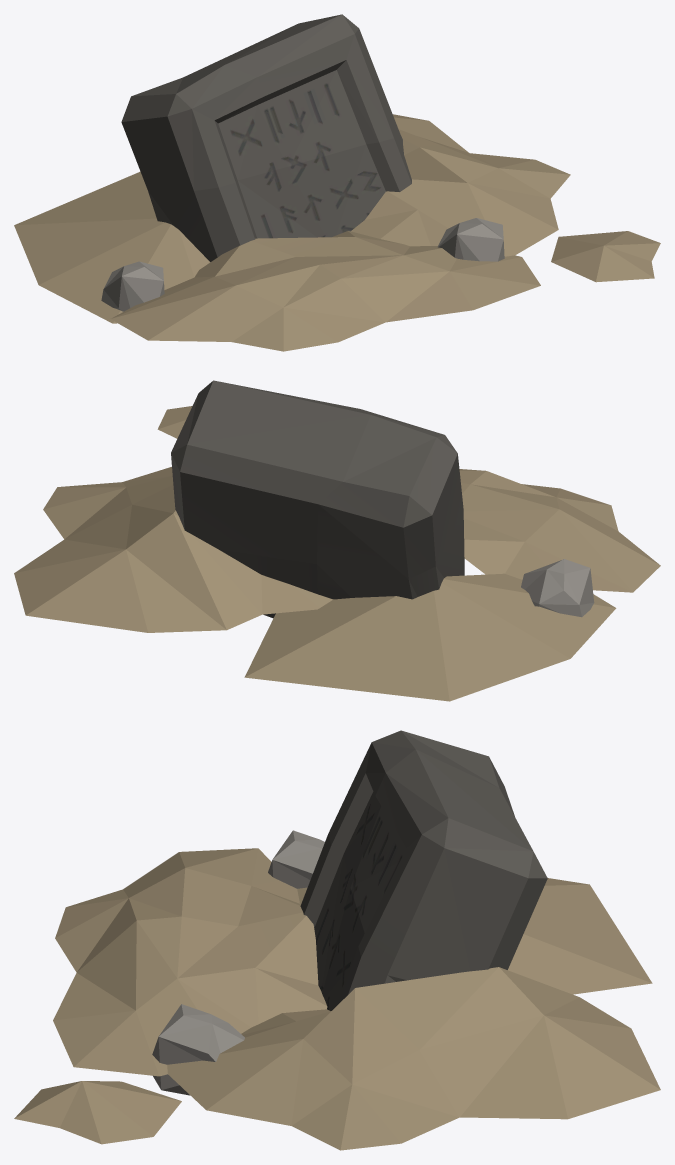
File: runestone.fbx
3 renders of one model, top to bottom at view 1: azimuth 30°, elevation 25°; view 2: azimuth 150°, elevation 25°; view 3: azimuth 270°, elevation 25°, orthographic. The views are drawn at different scales.
Visible parts, largest first — view 1: runestone; view 2: runestone; view 3: runestone.
Boxes of the visible parts, <box> form: runestone: <box>14,14,660,351</box>; runestone: <box>14,380,660,701</box>; runestone: <box>14,730,660,1150</box>.
Size of the model in its own units: 2.17 by 0.9708 by 1.93.
